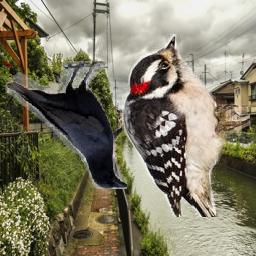Crow: (5, 61, 127, 189)
Woodpecker: (122, 35, 250, 218)
